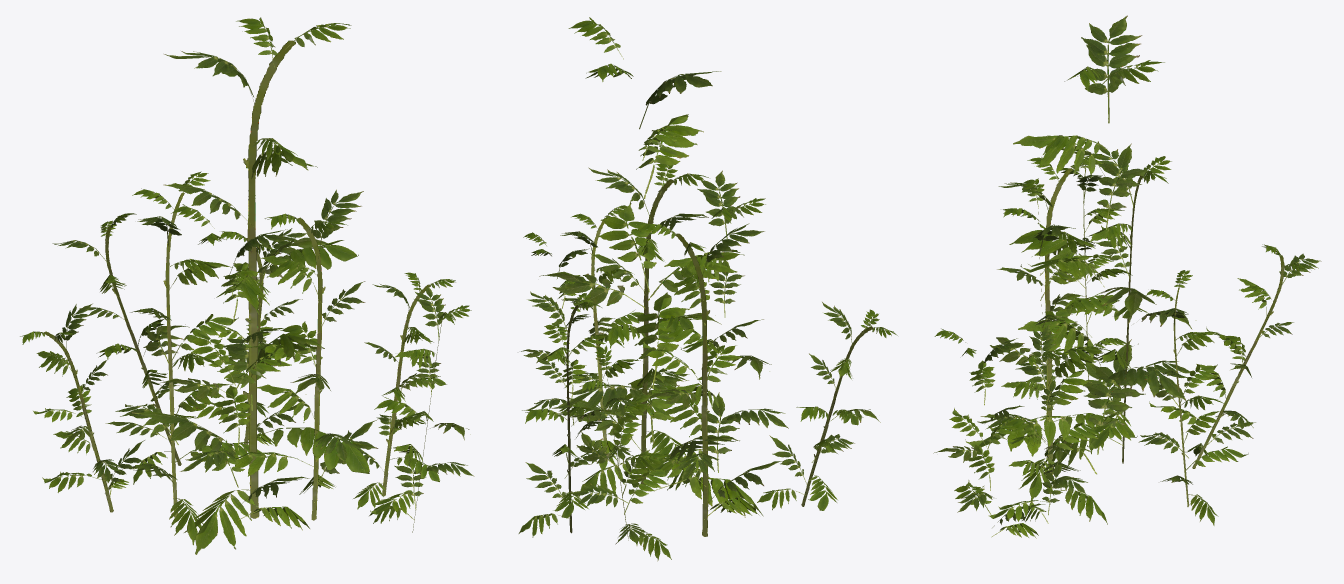
File: grass_04.glb
The picture shows the model from 3 angles, left to right: view 1: azimuth 30°, elevation 25°; view 2: azimuth 150°, elevation 25°; view 3: azimuth 270°, elevation 25°; orthographic projection. The views are drawn at different scales.
Parts seen in each view (by area): view 1: Object_2; view 2: Object_2; view 3: Object_2.
Part boxes in pixels (<box>): Object_2: <box>20,17,474,554</box>; Object_2: <box>518,17,897,561</box>; Object_2: <box>933,15,1321,538</box>.
Bounding box in the file's own units: 2.31 × 2.82 × 2.02.
Materials: 1 (1 with a texture image).
